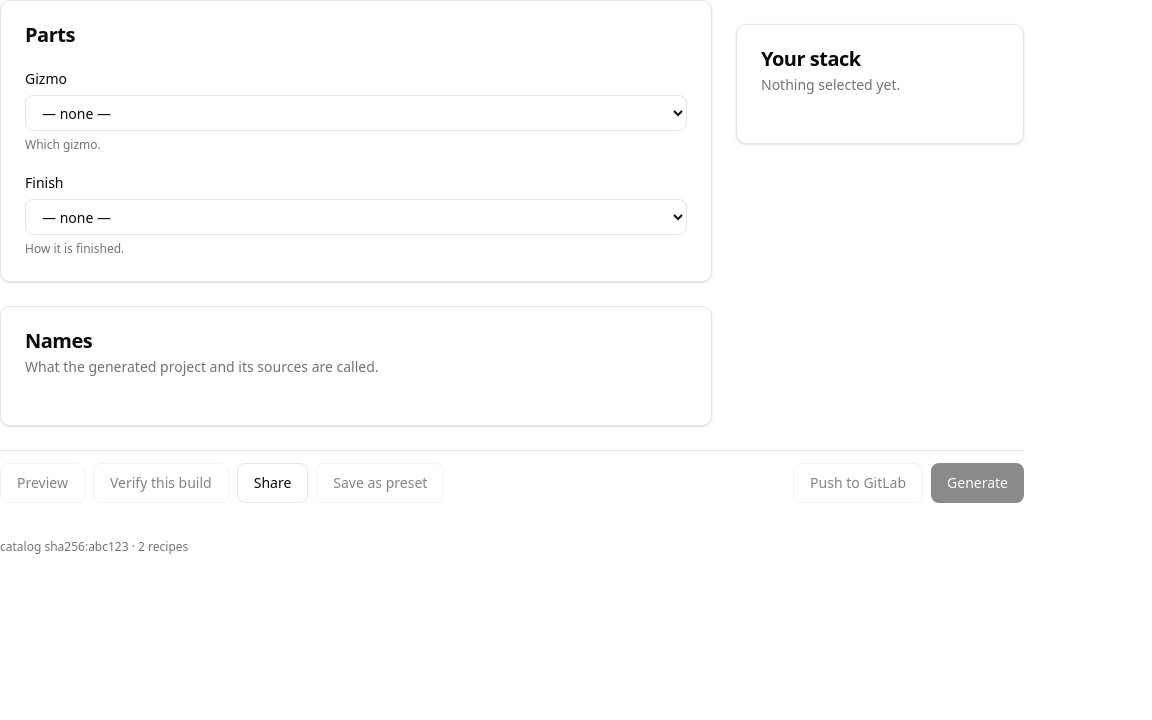
Test: verification badges › offers the failing cell log, and fetches it only when asked
The width and height of the screenshot is (1152, 720).
Select "Brass" in the dropdown labelled "Gizmo": (356, 113) [25, 95, 687, 131]
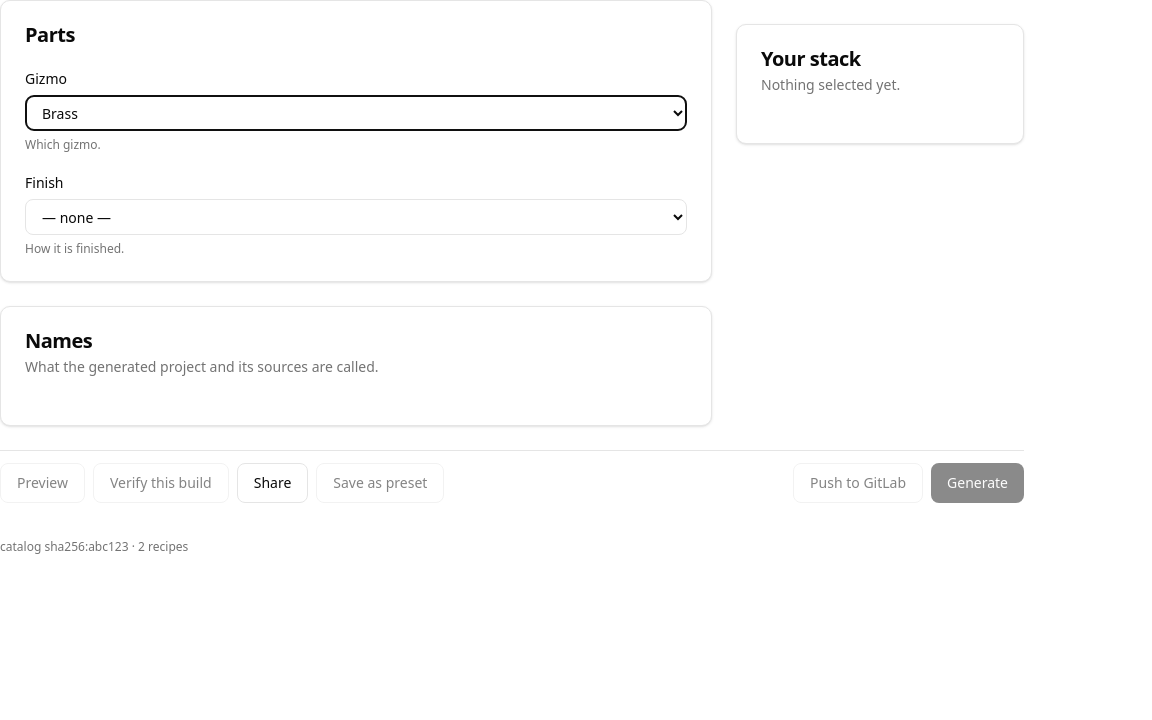
Select "Matte" in the dropdown labelled "Finish": (356, 217) [25, 199, 687, 235]
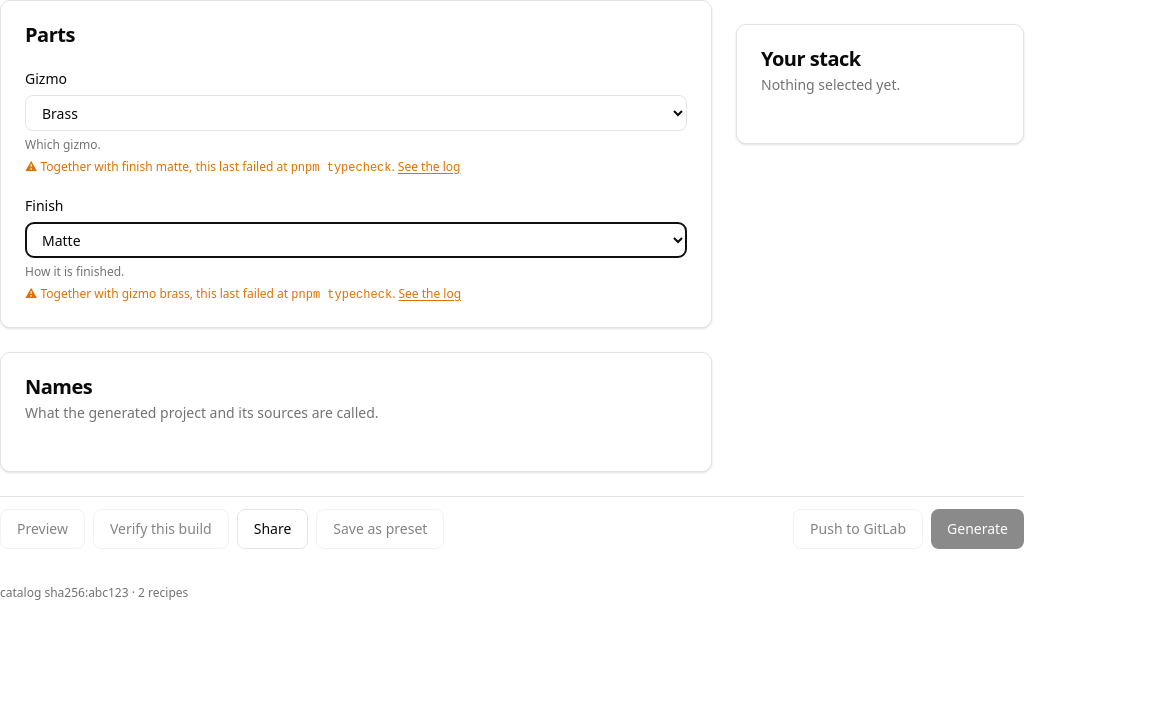
Expected: the number of buttons with test id "cell-log-link" is 2
Click the button with test id "cell-log-link" in the row of "Together with finish matte, this": click(429, 167) [398, 159, 460, 175]
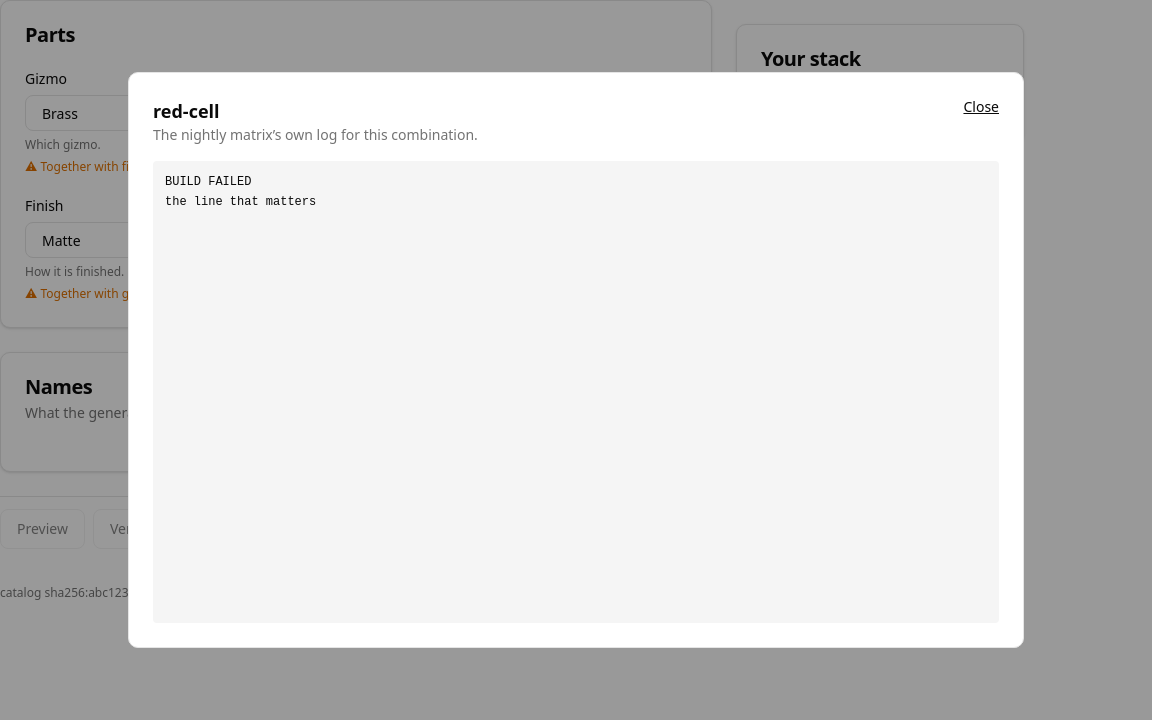
Expected: the text with test id "build-log" shows "the line that matters", [165, 175, 316, 208]
